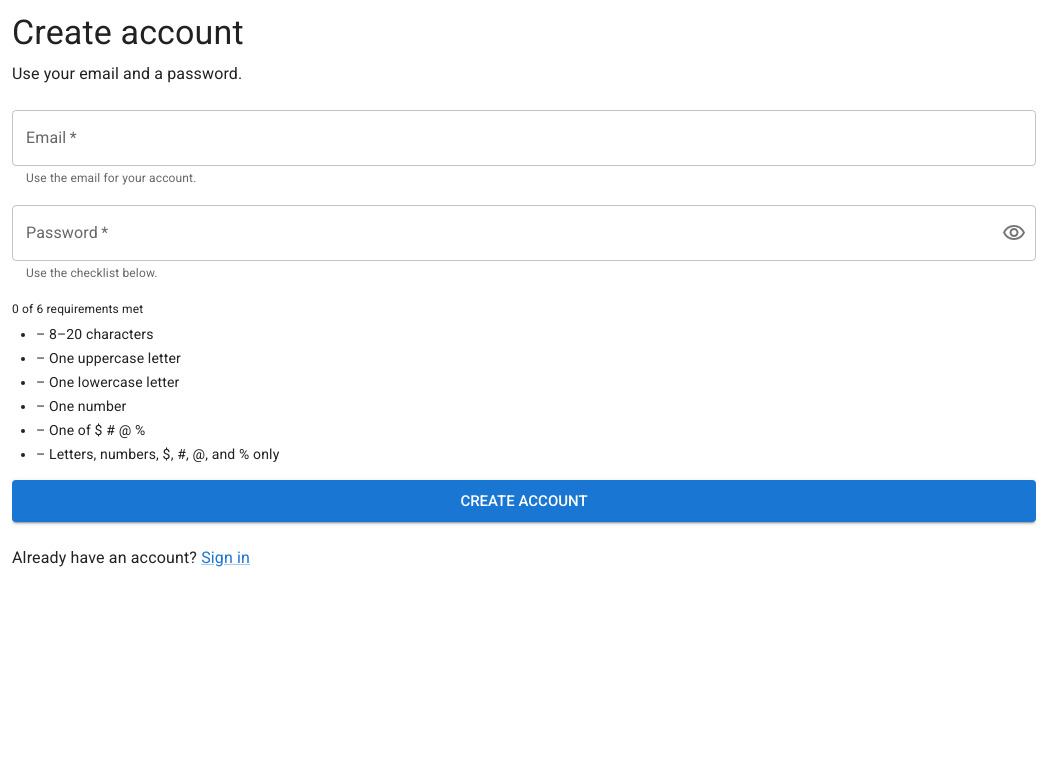
Test: AuthForm › does not navigate after a malformed success response
Type "person@example.com" into the field labelled "Email *" at (524, 138), box [12,110,1036,166]
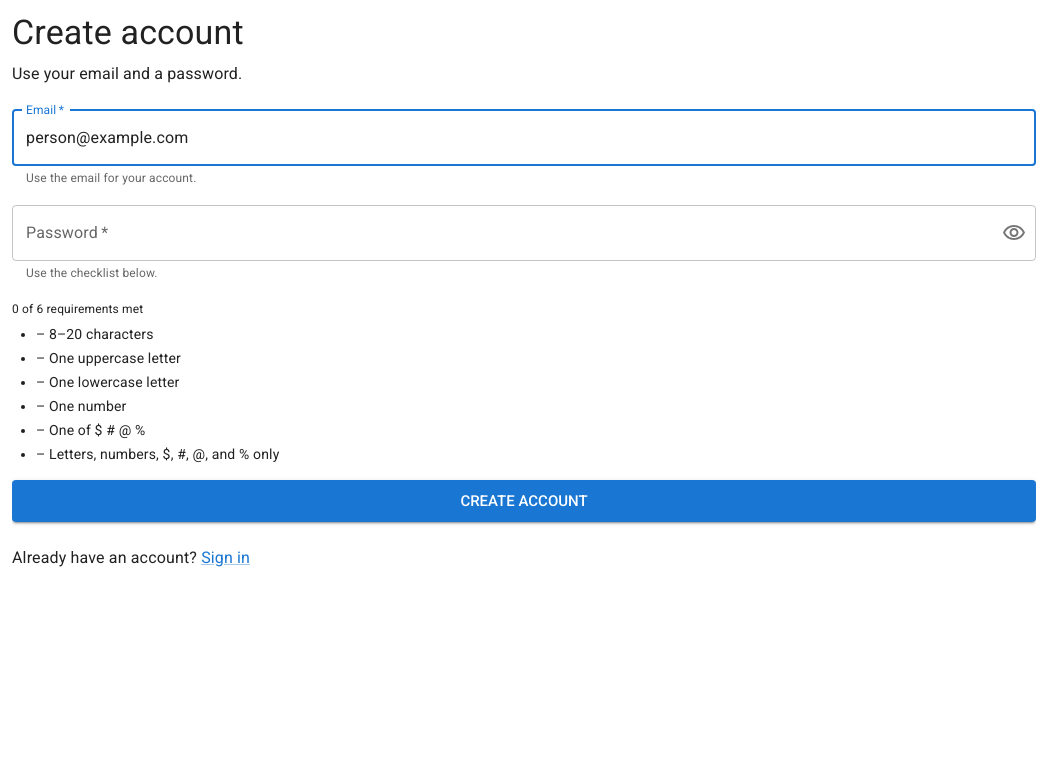
Type "TripDemo9@Qz" into the password field labelled "Password *" at (499, 233), box [12,205,986,261]
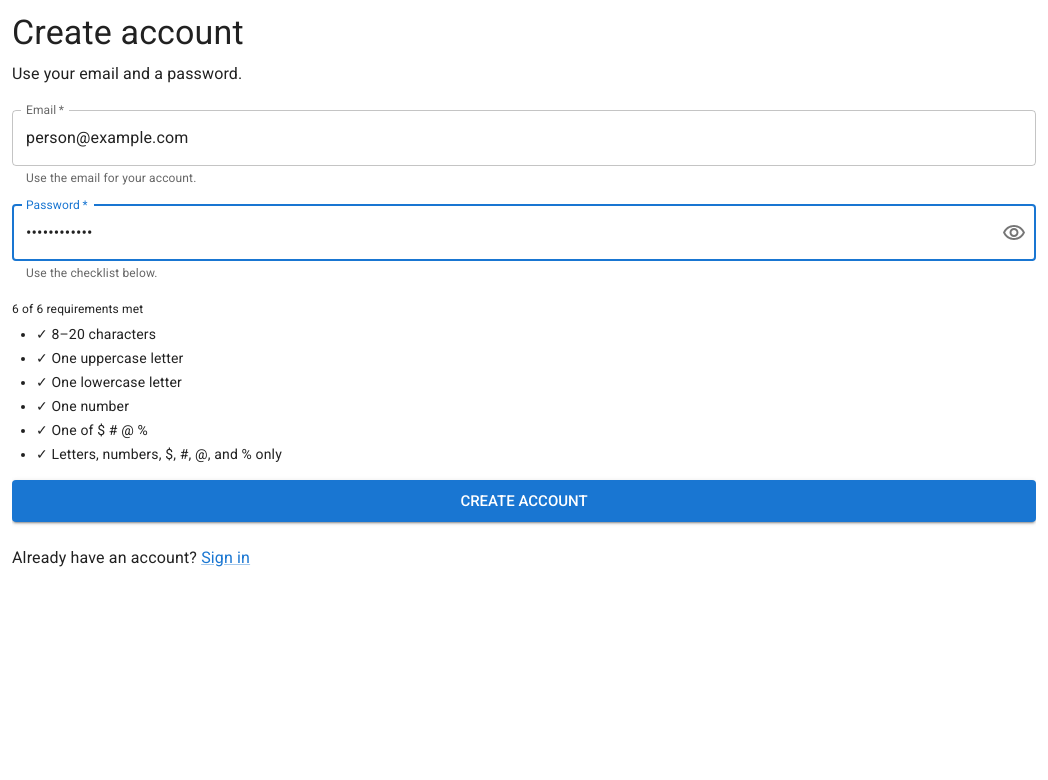
Click the button "Create account" at (524, 501), box [12,480,1036,522]
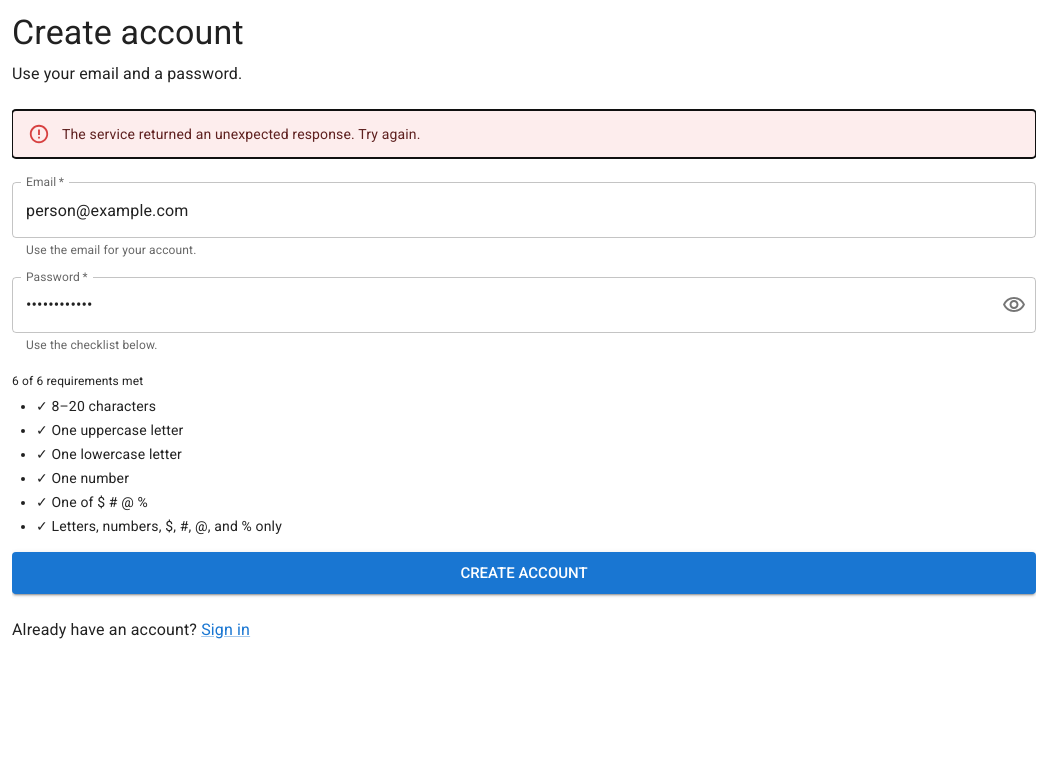
expect the text "The service returned an unexpected response. Try again." is shown: met, box [62,126,420,142]
